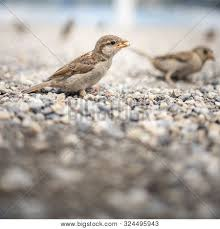home_sparrow: (21, 29, 137, 102), (130, 41, 215, 87)
